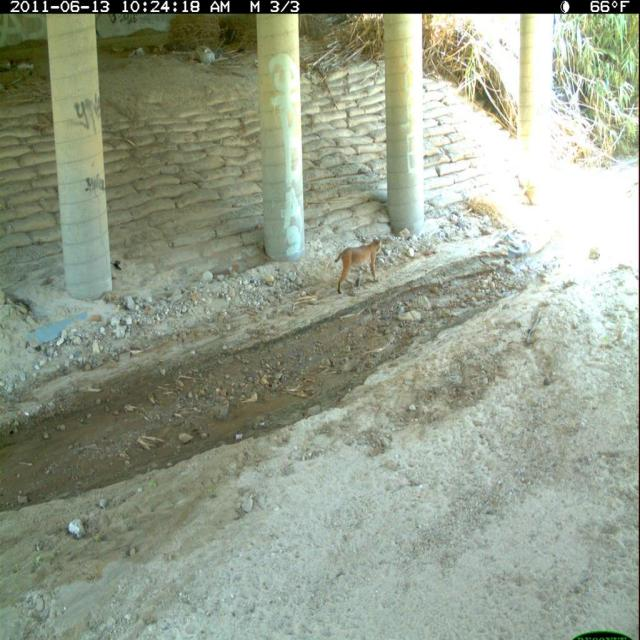bobcat: (332, 234, 386, 300)
